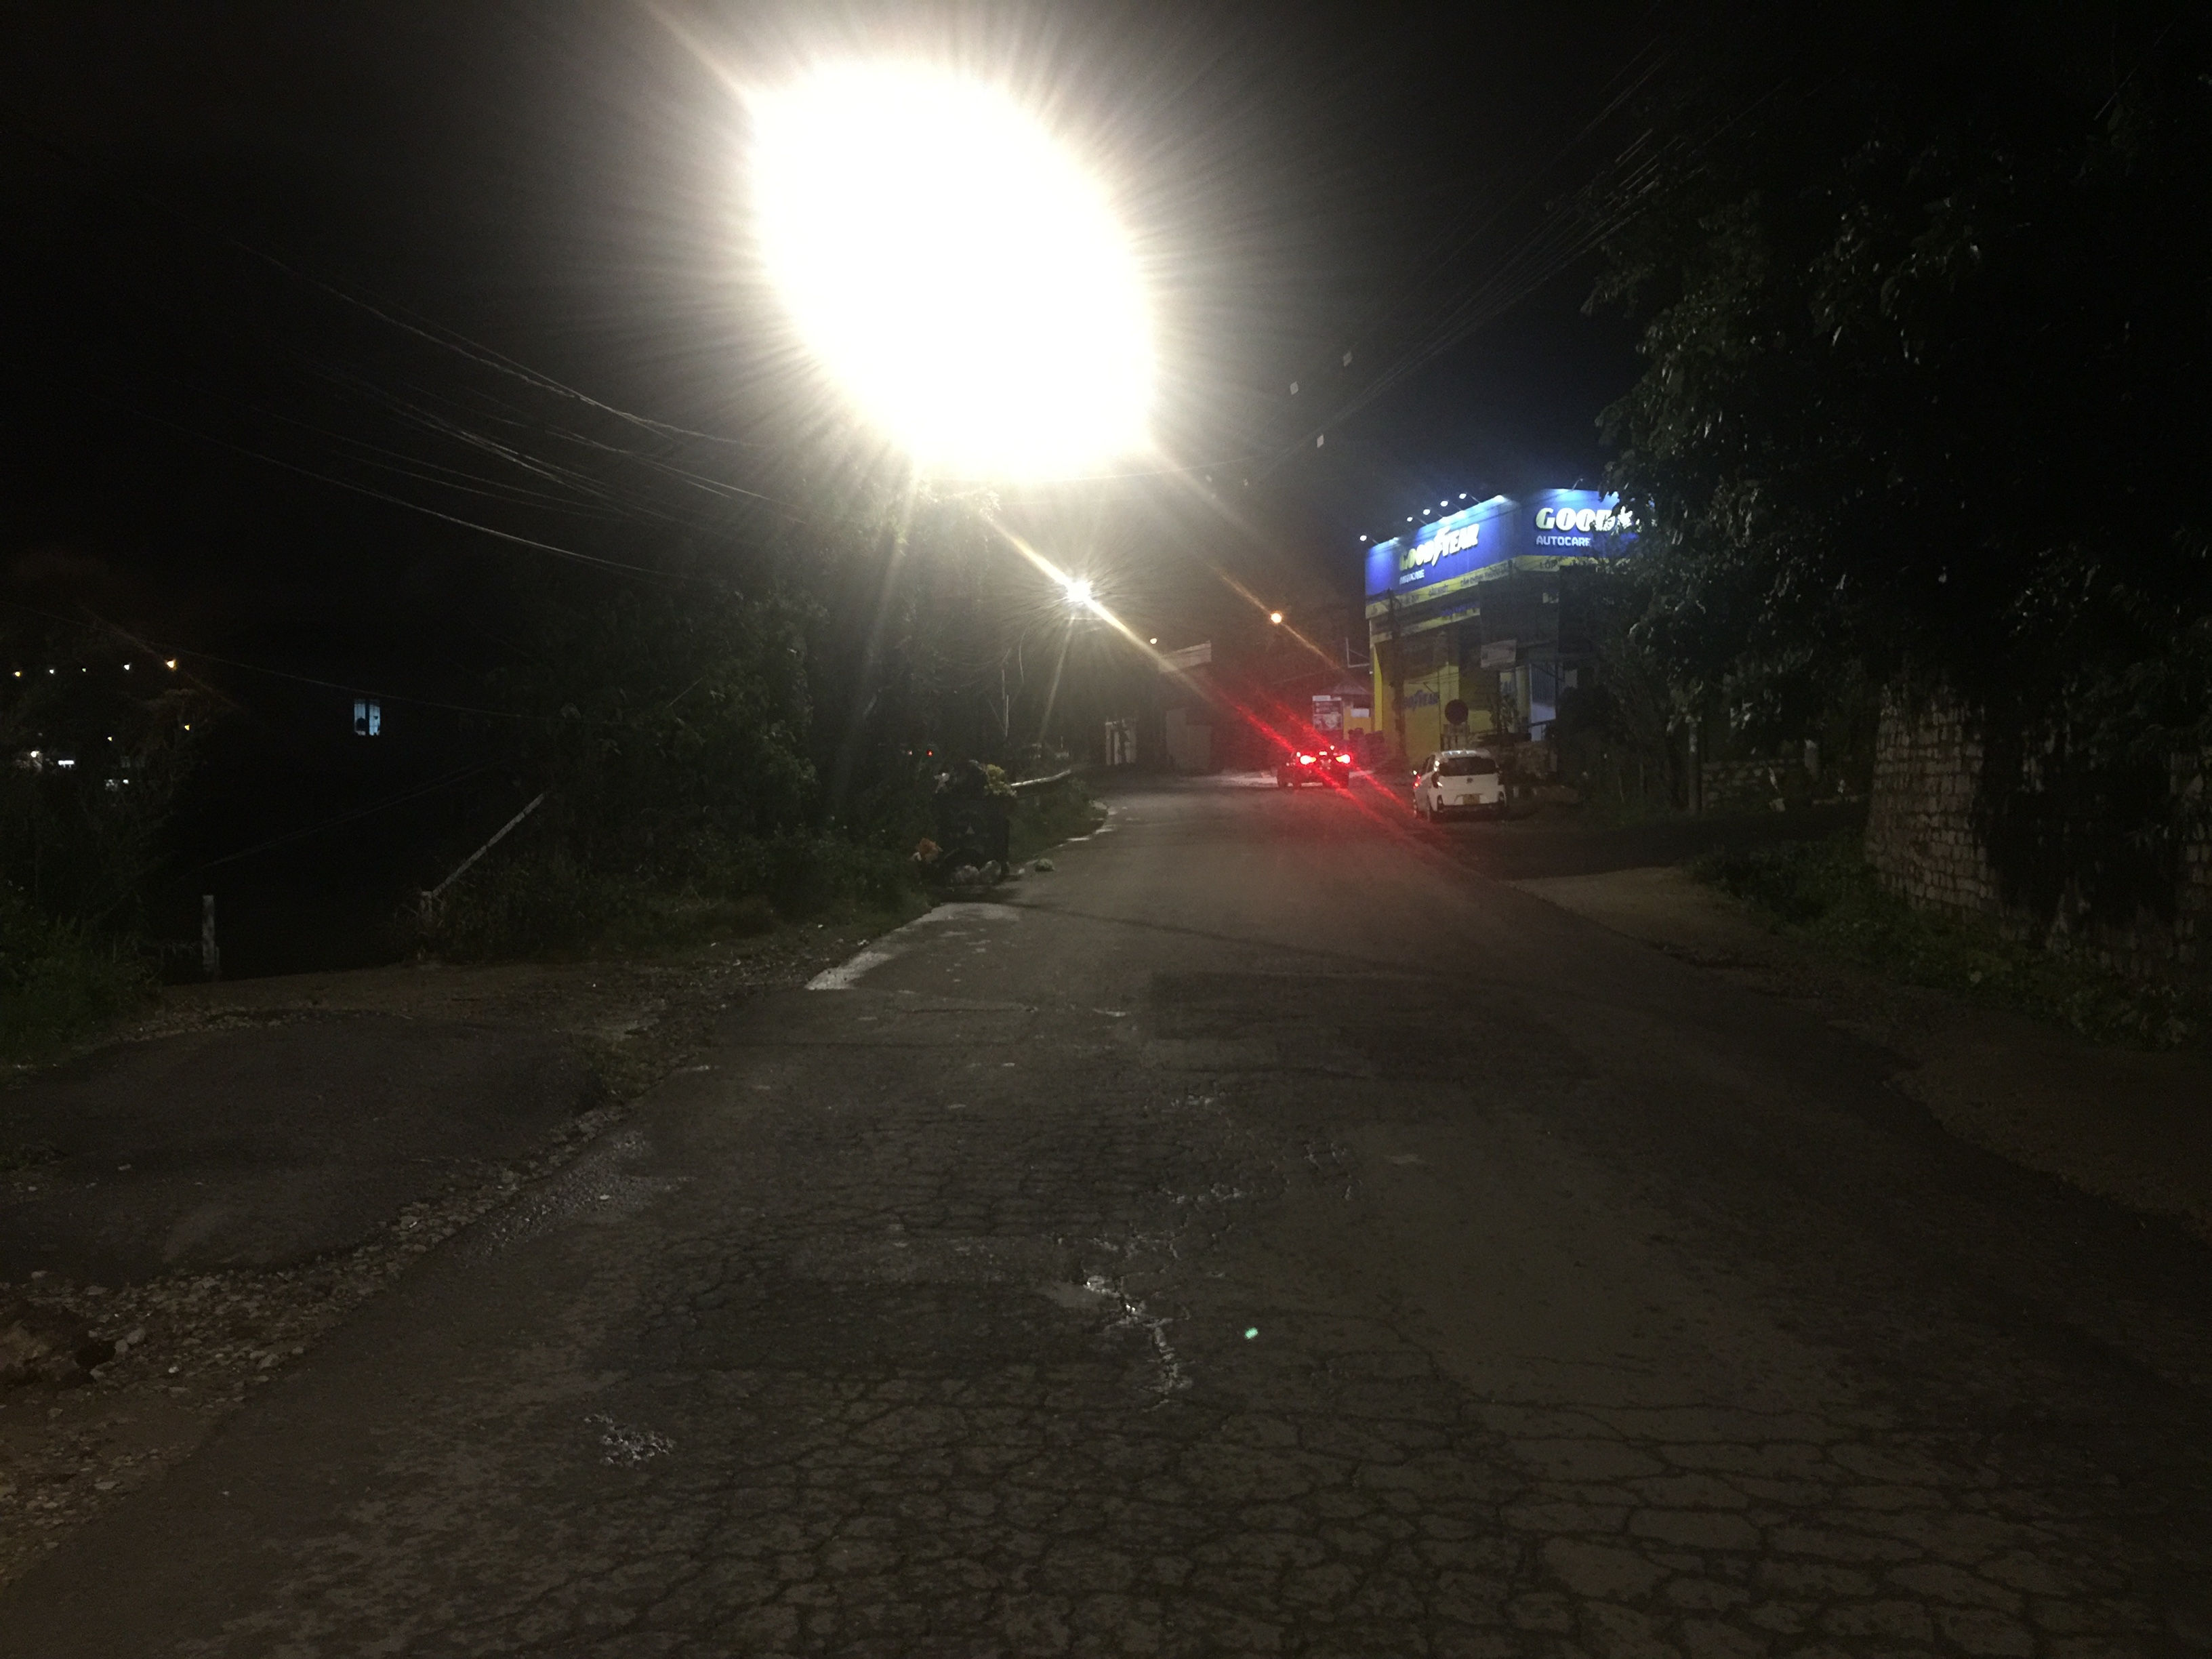hole: (585, 1251, 1177, 1371)
